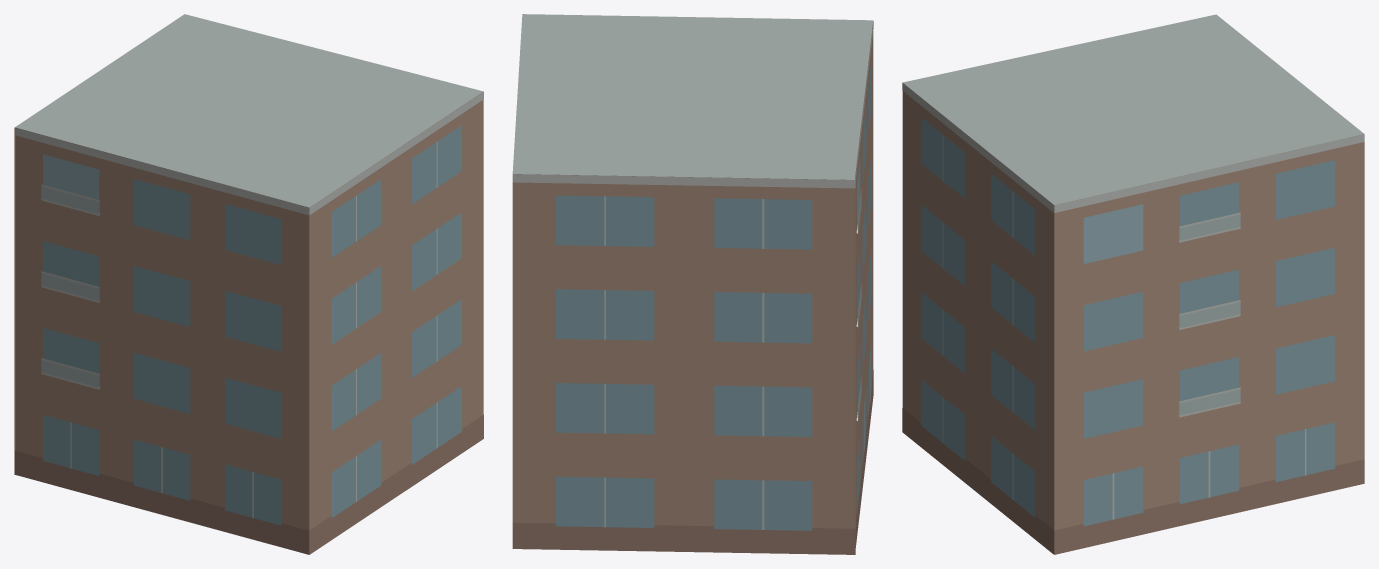
File: survey-upis-32859722.glb
3 views of the same model, side by side, from view 1: azimuth 30°, elevation 25°; view 2: azimuth 150°, elevation 25°; view 3: azimuth 270°, elevation 25° (orthographic). The views are drawn at different scales.
Visible parts, largest first — view 1: survey-upis-32859722.tmp; view 2: survey-upis-32859722.tmp; view 3: survey-upis-32859722.tmp.
Part boxes in pixels (box(x1,y1,x2,y2)): survey-upis-32859722.tmp: box(14, 14, 483, 554); survey-upis-32859722.tmp: box(512, 14, 873, 554); survey-upis-32859722.tmp: box(902, 14, 1364, 554).
Bounding box in the file's own units: 12.61 × 10.75 × 12.88.
